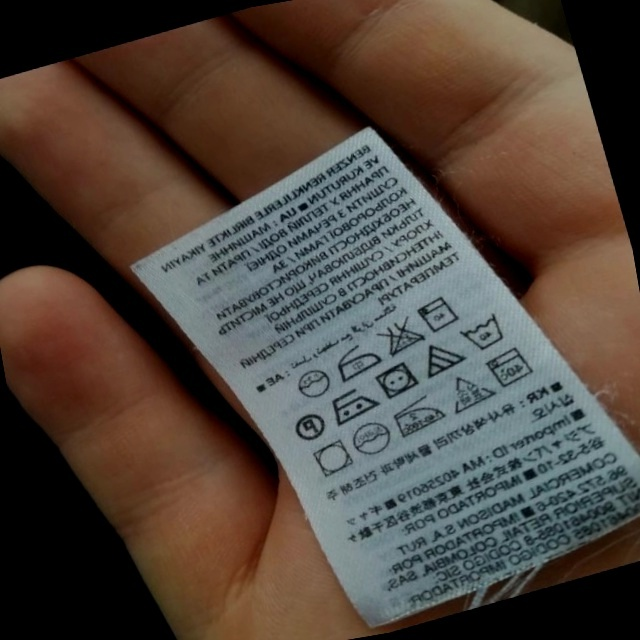40C: (454, 310, 508, 357), (483, 343, 533, 392), (414, 292, 459, 338)
dry_clean: (346, 416, 395, 460), (290, 363, 335, 406)
dry_clean_any_solvent_except_trichloroethylene: (289, 408, 329, 445)
iron: (329, 339, 384, 383)
iron_medium: (387, 393, 448, 440), (326, 383, 379, 426)
non_chlorine_bleach: (442, 369, 494, 418), (416, 337, 466, 381)
tumble_dry_medium: (369, 357, 422, 403)
tumble_dry_normal: (307, 436, 358, 484)
